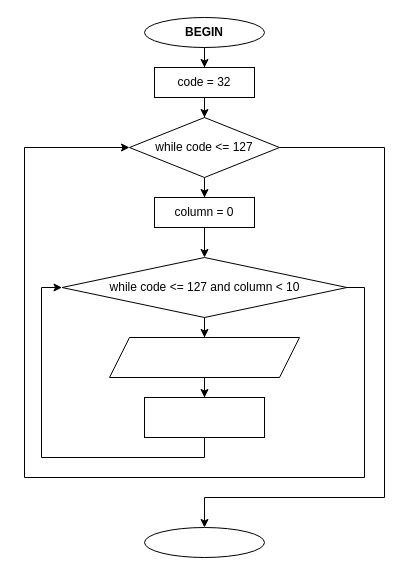
The diagram is 410 pixels wide and 575 high, and some of its shapes have lost their labels. Here are the shapes that lost their labels. From the top down, the box of each, then its label:
(108, 336, 300, 378): OUTPUT: code + " - " + chr(code)
(144, 396, 264, 438): code += 1 column +=1
(144, 526, 264, 558): END
